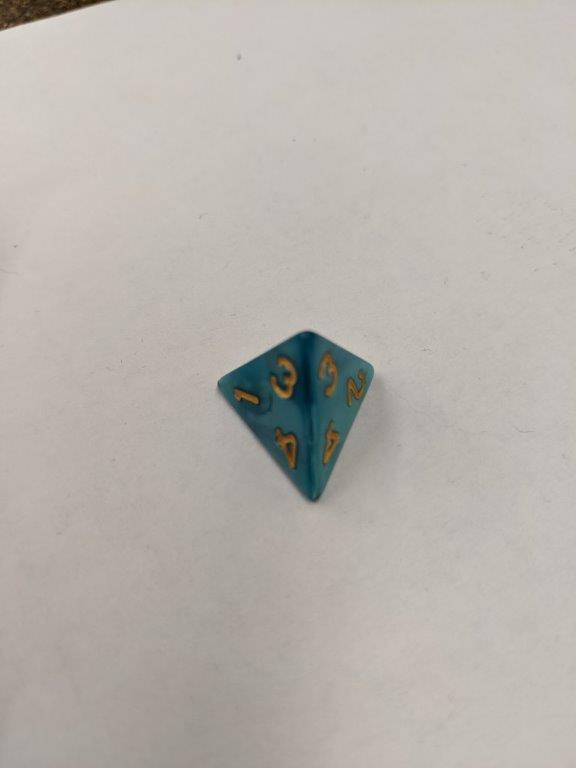d4-3: (214, 326, 379, 507)
